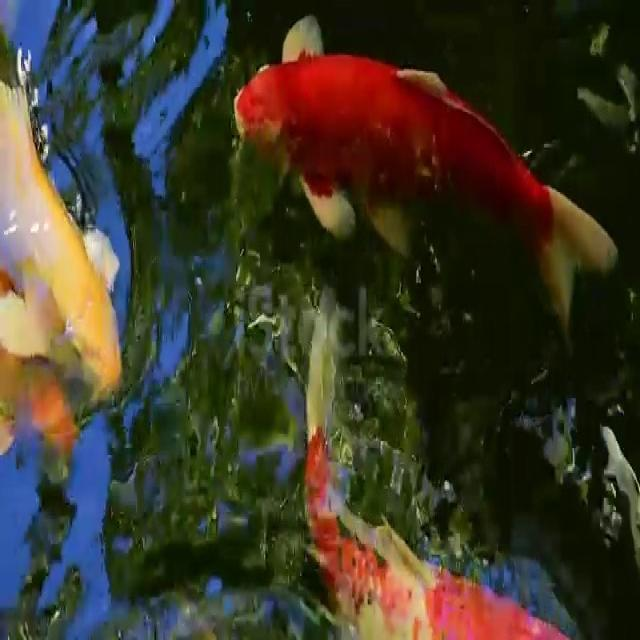fish: (220, 33, 602, 332), (279, 377, 569, 640), (0, 62, 165, 377)
